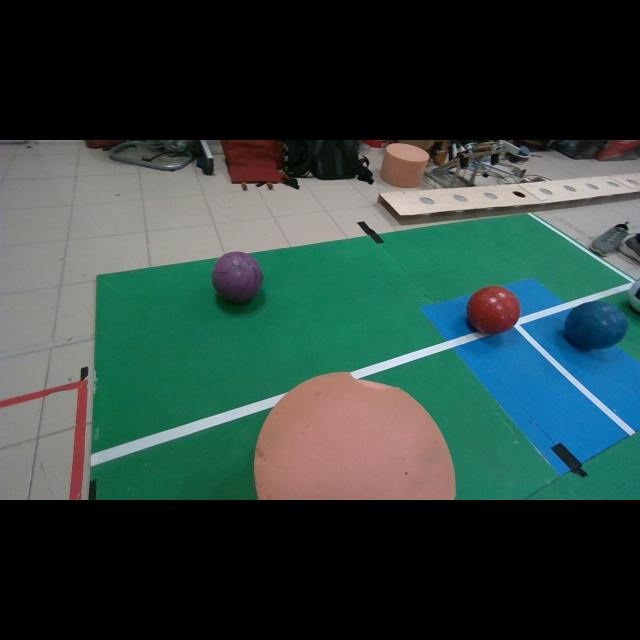B: (565, 301, 629, 349)
P: (211, 251, 264, 303)
R: (468, 286, 521, 333)
